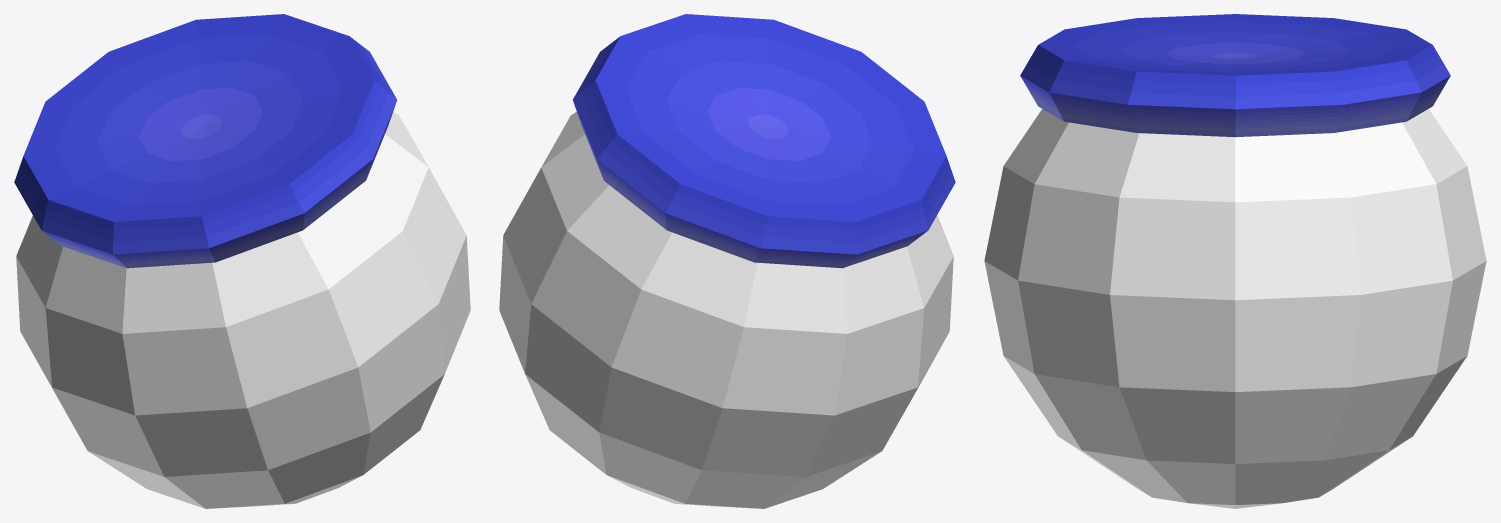
Rendered from diver_helm_bake.dae.
The picture shows the model from 3 angles, left to right: view 1: azimuth 30°, elevation 25°; view 2: azimuth 150°, elevation 25°; view 3: azimuth 270°, elevation 25°; orthographic projection. The views are drawn at different scales.
Visible parts, largest first — view 1: m0, m1; view 2: m0, m1; view 3: m0, m1.
Part boxes in pixels (<box>): m0: <box>16,111,470,508</box>; m1: <box>14,14,396,268</box>; m0: <box>499,111,953,508</box>; m1: <box>573,14,955,268</box>; m0: <box>984,109,1486,508</box>; m1: <box>1020,14,1450,137</box>.
Bounding box in the file's own units: 86.12 × 88.18 × 85.8.
3 materials, 2 textured.
